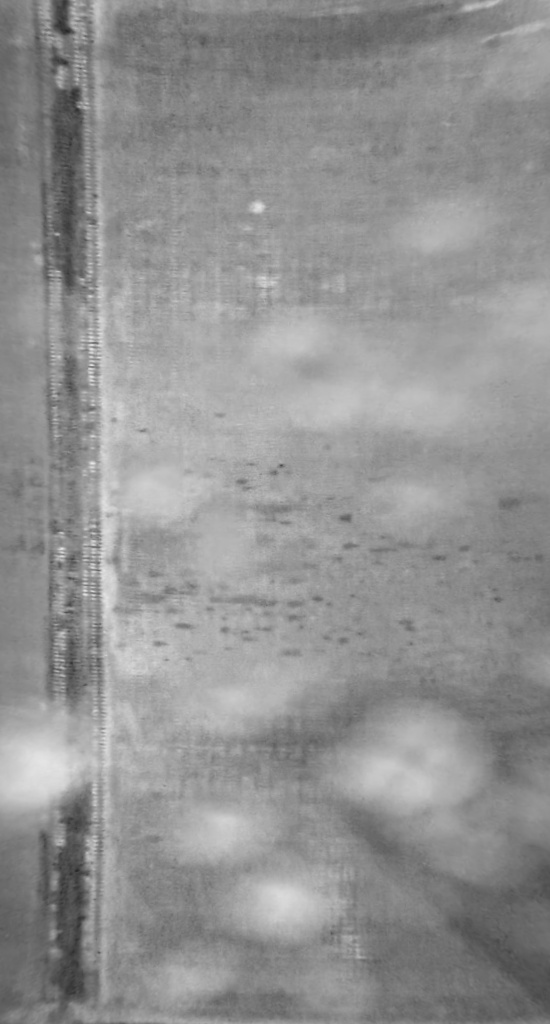splice: (19, 1, 122, 1023)
